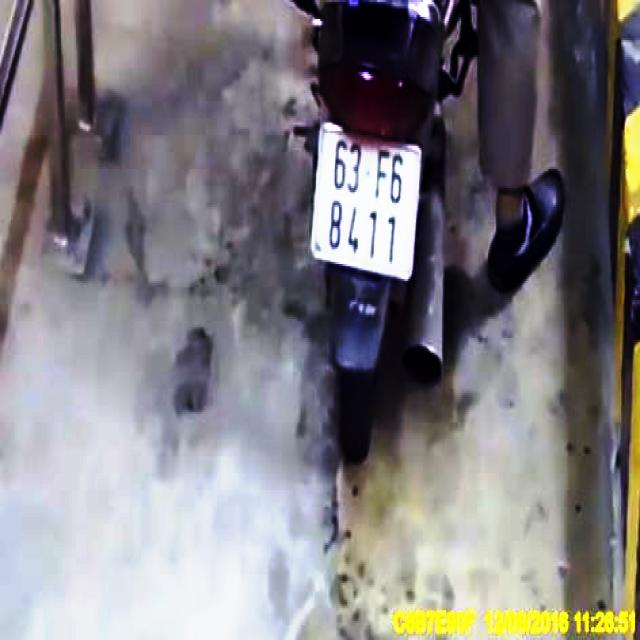license_plate: (312, 127, 424, 282)
